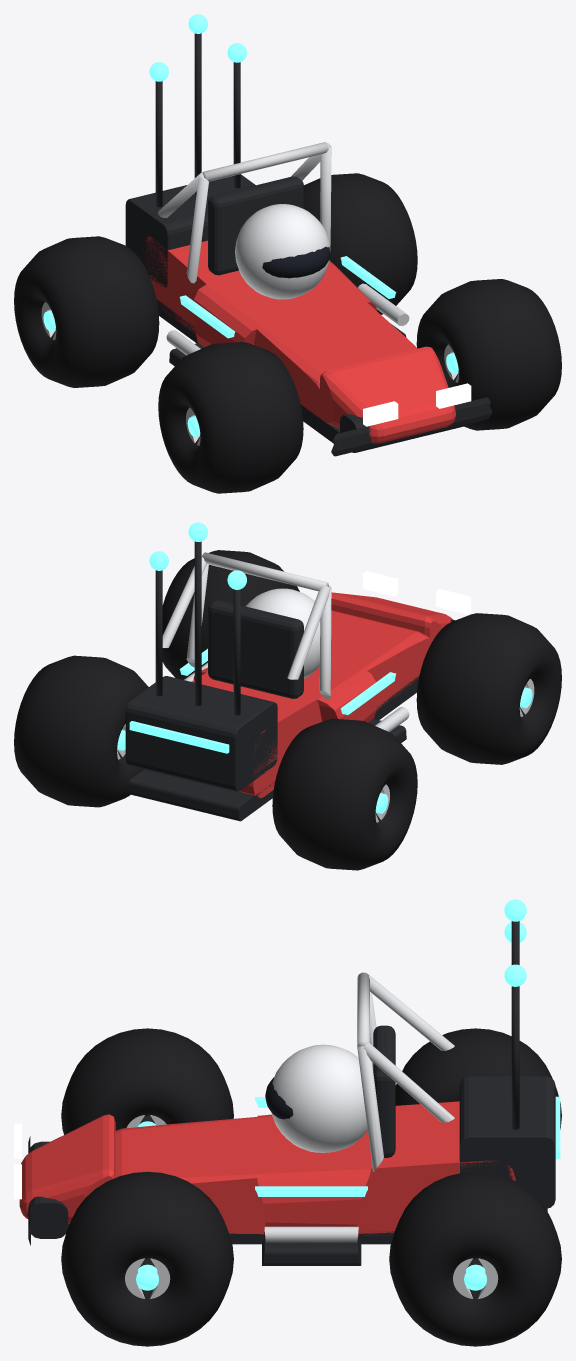
The model's file is kart-5g.glb.
The picture shows the model from 3 angles, top to bottom: view 1: azimuth 30°, elevation 25°; view 2: azimuth 150°, elevation 25°; view 3: azimuth 270°, elevation 25°; orthographic projection. The views are drawn at different scales.
Visible parts, largest first — view 1: Wheel_FL.001, Wheel_RL.001, Hull.004, Wheel_FR.001, Wheel_RR.001, Hull.005, Helmet.001, Box.018, Box.017, Box.016, Rod.010, Box.015 (+12 smaller); view 2: Wheel_RL.001, Wheel_FL.001, Wheel_RR.001, Box.018, Hull.004, Box.017, Wheel_FR.001, Box.015, Hull.005, Helmet.001, Rod.010, Rod.012 (+11 smaller); view 3: Hull.004, Wheel_FR.001, Wheel_RR.001, Wheel_FL.001, Box.018, Helmet.001, Wheel_RL.001, Hull.005, Box.015, Box.017, Box.016, Rod.007 (+7 smaller).
Part boxes in pixels (left/top/right/bottom): Wheel_FL.001: left=158, top=342, right=303, bottom=493; Wheel_RL.001: left=14, top=236, right=159, bottom=387; Hull.004: left=146, top=236, right=417, bottom=419; Wheel_FR.001: left=416, top=279, right=561, bottom=430; Wheel_RR.001: left=304, top=173, right=417, bottom=314; Hull.005: left=319, top=346, right=455, bottom=443; Helmet.001: left=235, top=204, right=330, bottom=299; Box.018: left=125, top=174, right=255, bottom=287; Box.017: left=208, top=176, right=303, bottom=275; Box.016: left=331, top=397, right=492, bottom=456; Rod.010: left=202, top=142, right=328, bottom=181; Box.015: left=156, top=299, right=406, bottom=443; Wheel_RL.001: left=272, top=718, right=417, bottom=870; Wheel_FL.001: left=416, top=613, right=561, bottom=764; Wheel_RR.001: left=14, top=655, right=148, bottom=807; Box.018: left=125, top=676, right=277, bottom=791; Hull.004: left=191, top=610, right=432, bottom=797; Box.017: left=208, top=600, right=303, bottom=698; Wheel_FR.001: left=162, top=550, right=299, bottom=679; Box.015: left=129, top=675, right=419, bottom=821; Hull.005: left=331, top=592, right=452, bottom=640; Helmet.001: left=246, top=588, right=320, bottom=678; Rod.010: left=202, top=552, right=328, bottom=591; Rod.012: left=194, top=541, right=201, bottom=705; Hull.004: left=115, top=1101, right=515, bottom=1236; Wheel_FR.001: left=61, top=1171, right=233, bottom=1346; Wheel_RR.001: left=389, top=1171, right=561, bottom=1346; Wheel_FL.001: left=61, top=1028, right=233, bottom=1134; Box.018: left=459, top=1076, right=555, bottom=1208; Helmet.001: left=271, top=1044, right=367, bottom=1152; Wheel_RL.001: left=395, top=1028, right=561, bottom=1129; Hull.005: left=19, top=1114, right=115, bottom=1224; Box.015: left=68, top=1208, right=547, bottom=1265; Box.017: left=373, top=1025, right=395, bottom=1157; Box.016: left=28, top=1136, right=68, bottom=1245; Rod.007: left=264, top=1226, right=358, bottom=1242.
Bounding box in the file's own units: 2.94 × 2.52 × 3.42.
